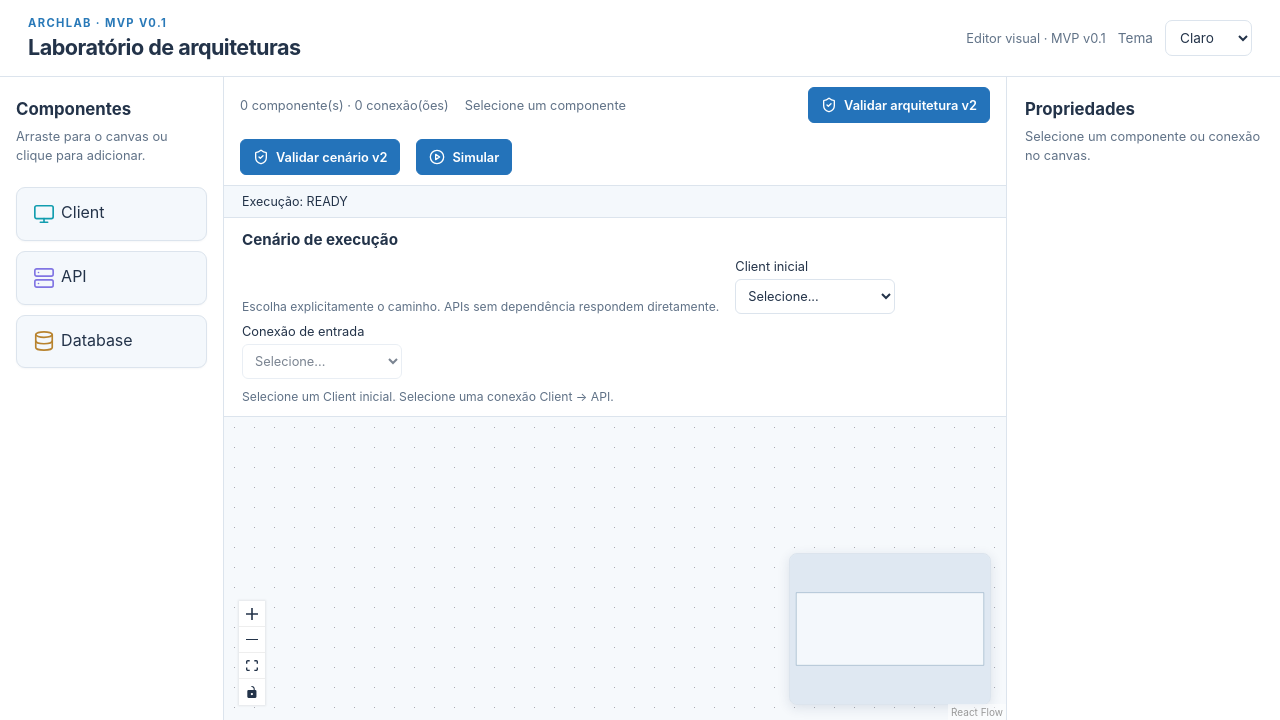
Scenario: Editor visual › valida arquitetura com backend v2, preserva resultado valid:false e path
This screenshot has width=1280, height=720.
Click the button "Validar arquitetura v2" at (899, 105), box [808, 87, 990, 123]
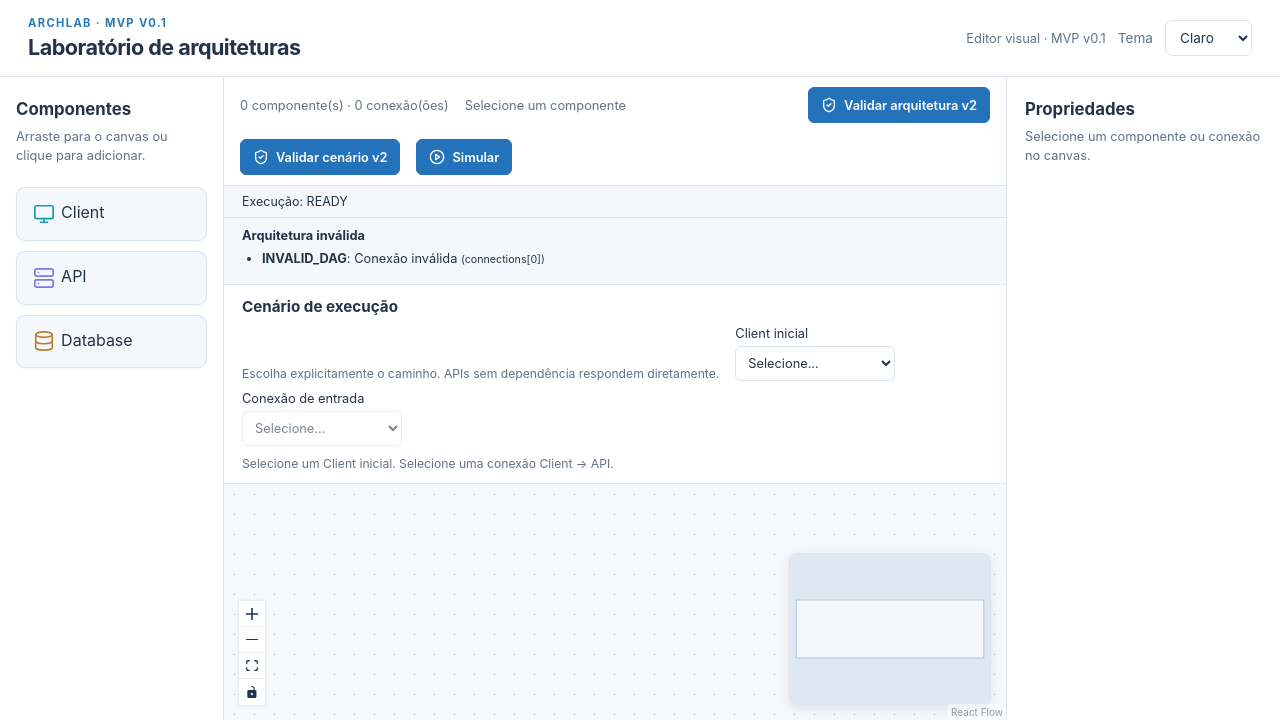
Expected: the text "INVALID_DAG" is shown, [262, 251, 347, 266]
Expected: the text "connections[0]" is shown, [465, 253, 541, 266]
